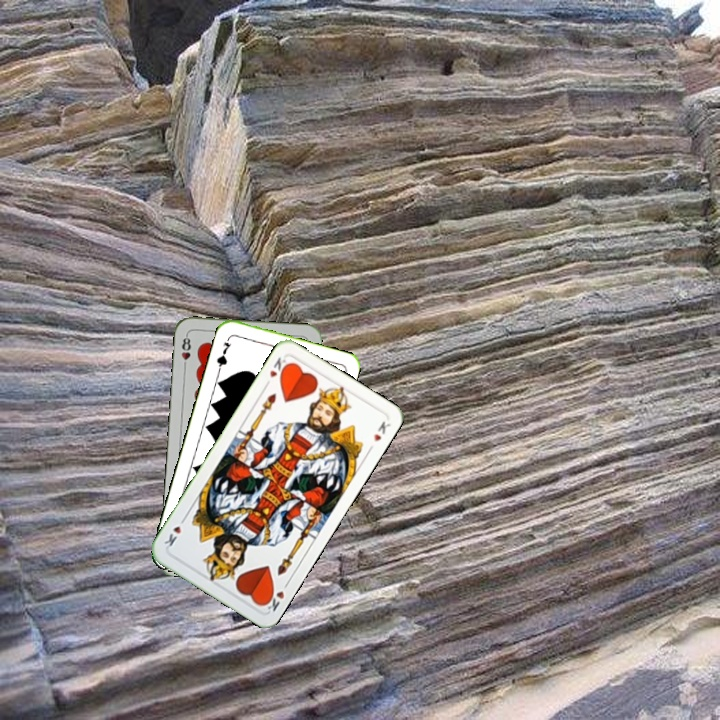G7: (212, 333, 234, 373)
H8: (177, 331, 193, 371)
HK: (260, 578, 292, 614), (261, 353, 292, 389)
